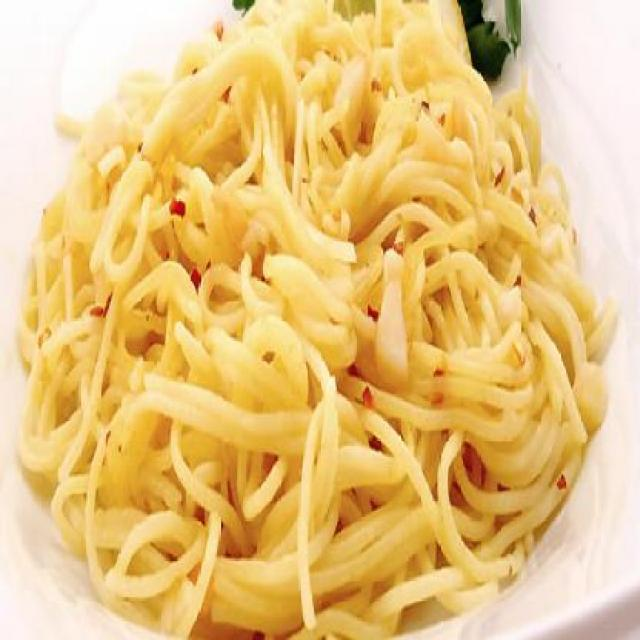Oil pasta: (36, 22, 559, 628)
